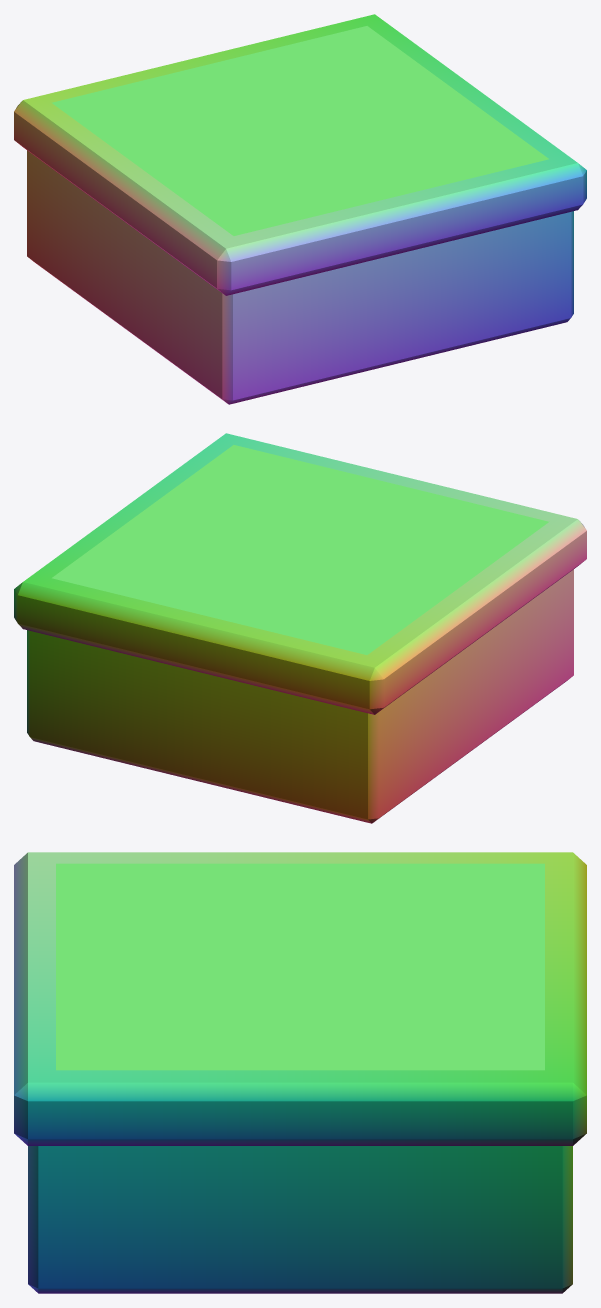
Rendered from wall_box.fbx.
The picture shows the model from 3 angles, top to bottom: view 1: azimuth 30°, elevation 25°; view 2: azimuth 150°, elevation 25°; view 3: azimuth 270°, elevation 25°; orthographic projection. The views are drawn at different scales.
Parts seen in each view (by area): view 1: wall_box; view 2: wall_box; view 3: wall_box.
Boxes of the visible parts, <box> form: wall_box: <box>14,14,586,404</box>; wall_box: <box>14,433,586,823</box>; wall_box: <box>14,852,586,1293</box>.
Bounding box in the file's own units: 0.82 × 0.341 × 0.82.
